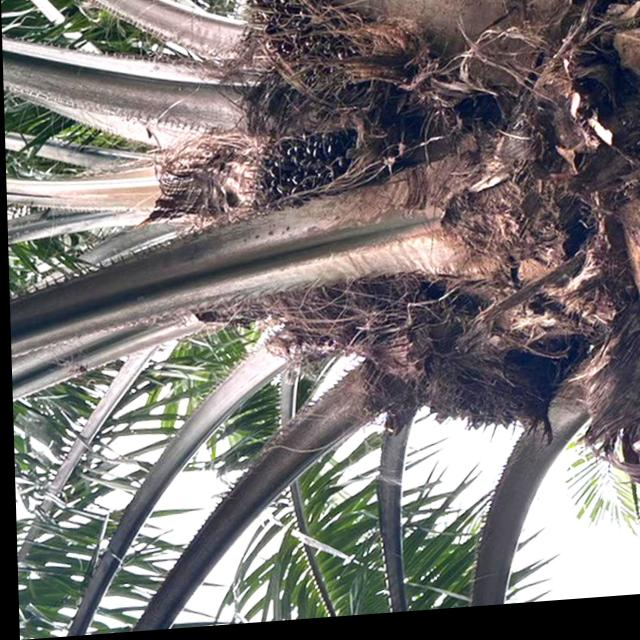unripe: (225, 122, 404, 244)
